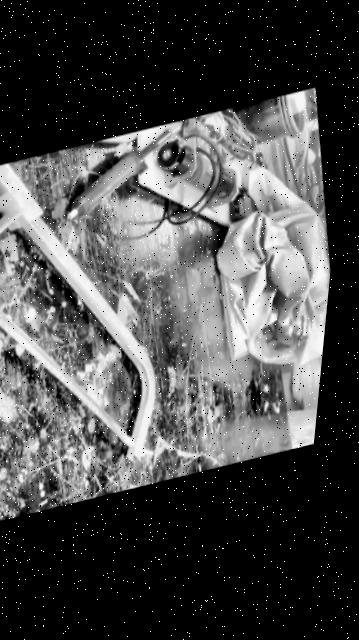pot: (220, 93, 302, 156)
